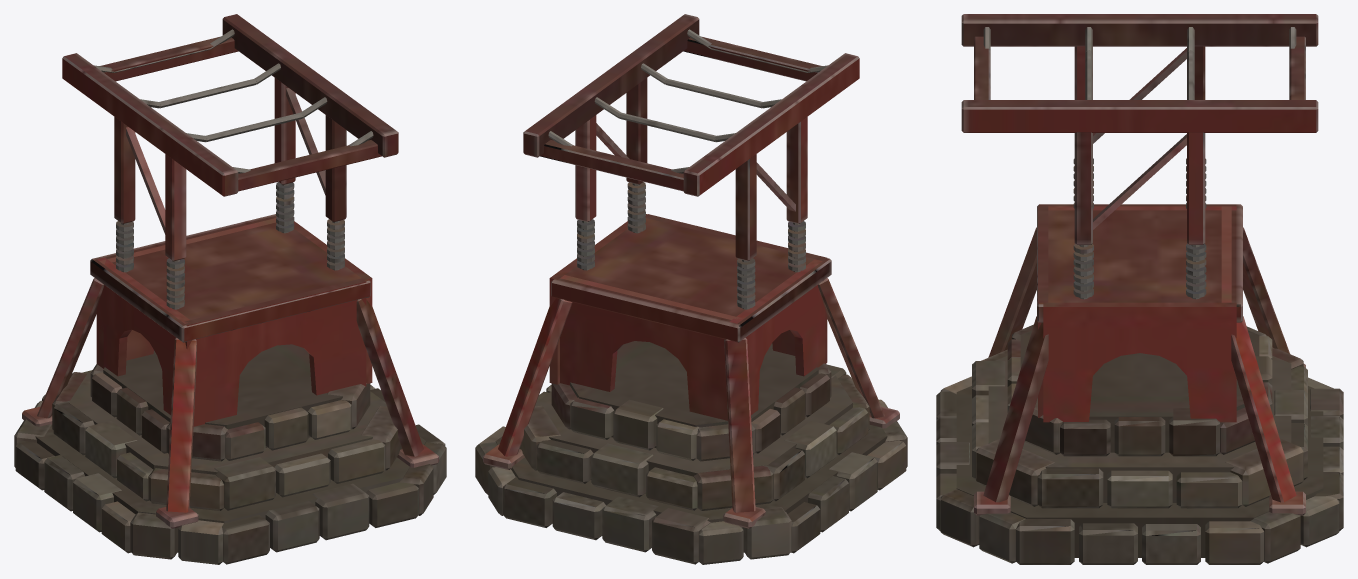
The model's file is rail-support.glb.
3 renders of one model, left to right at view 1: azimuth 30°, elevation 25°; view 2: azimuth 150°, elevation 25°; view 3: azimuth 270°, elevation 25°, orthographic. The views are drawn at different scales.
Parts seen in each view (by area): view 1: body; view 2: body; view 3: body.
Boxes of the visible parts, left/top/right/bottom form: body: left=14, top=14, right=446, bottom=564; body: left=475, top=14, right=907, bottom=564; body: left=936, top=14, right=1343, bottom=564.
Bounding box in the file's own units: 4 × 4.55 × 4.
1 material, 1 textured.
